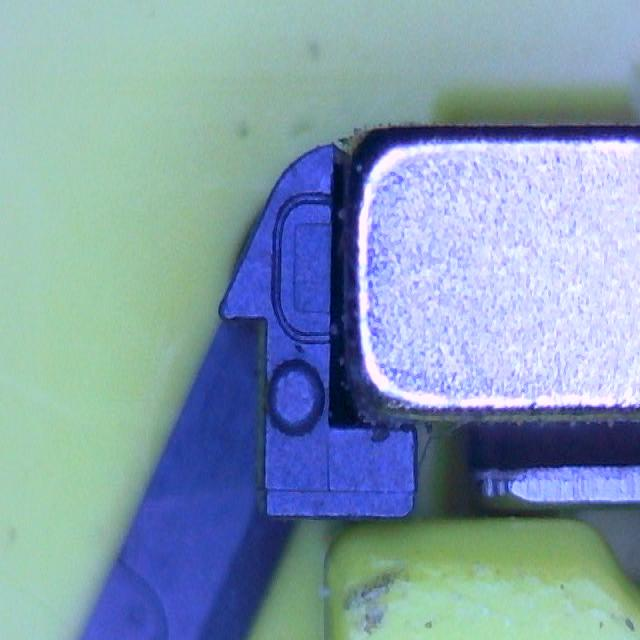noResin: (270, 190, 336, 346)
